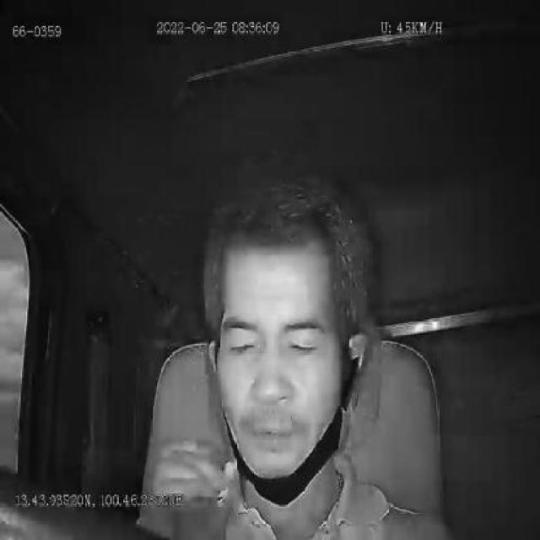smoking: (212, 461, 234, 511)
